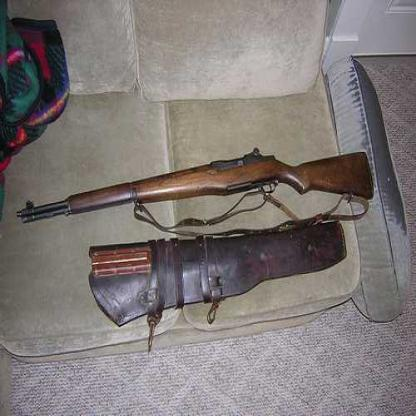rifle: (19, 86, 375, 260)
